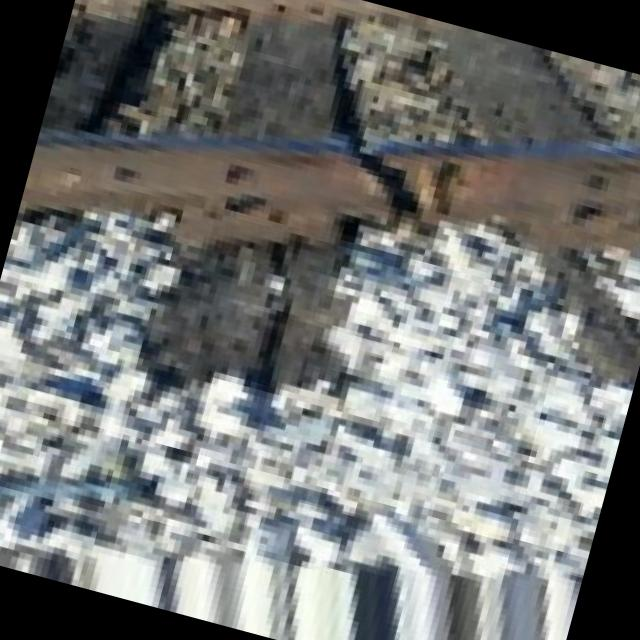defective: (36, 0, 607, 427)
